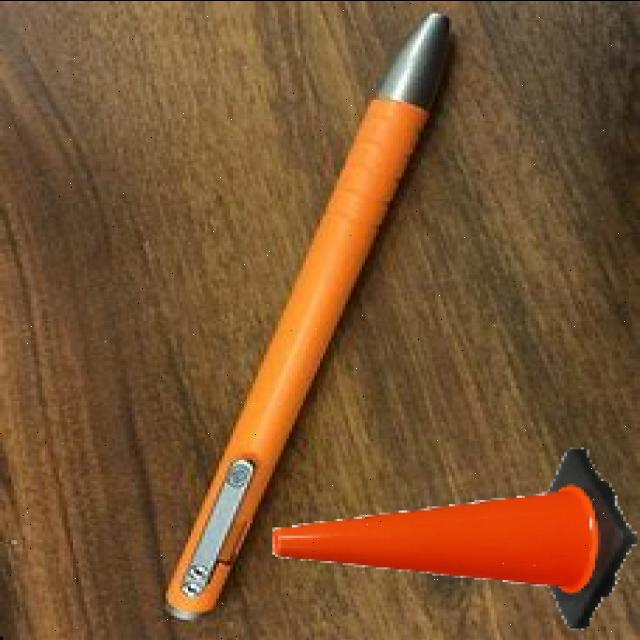traffic cone: (256, 443, 640, 636)
